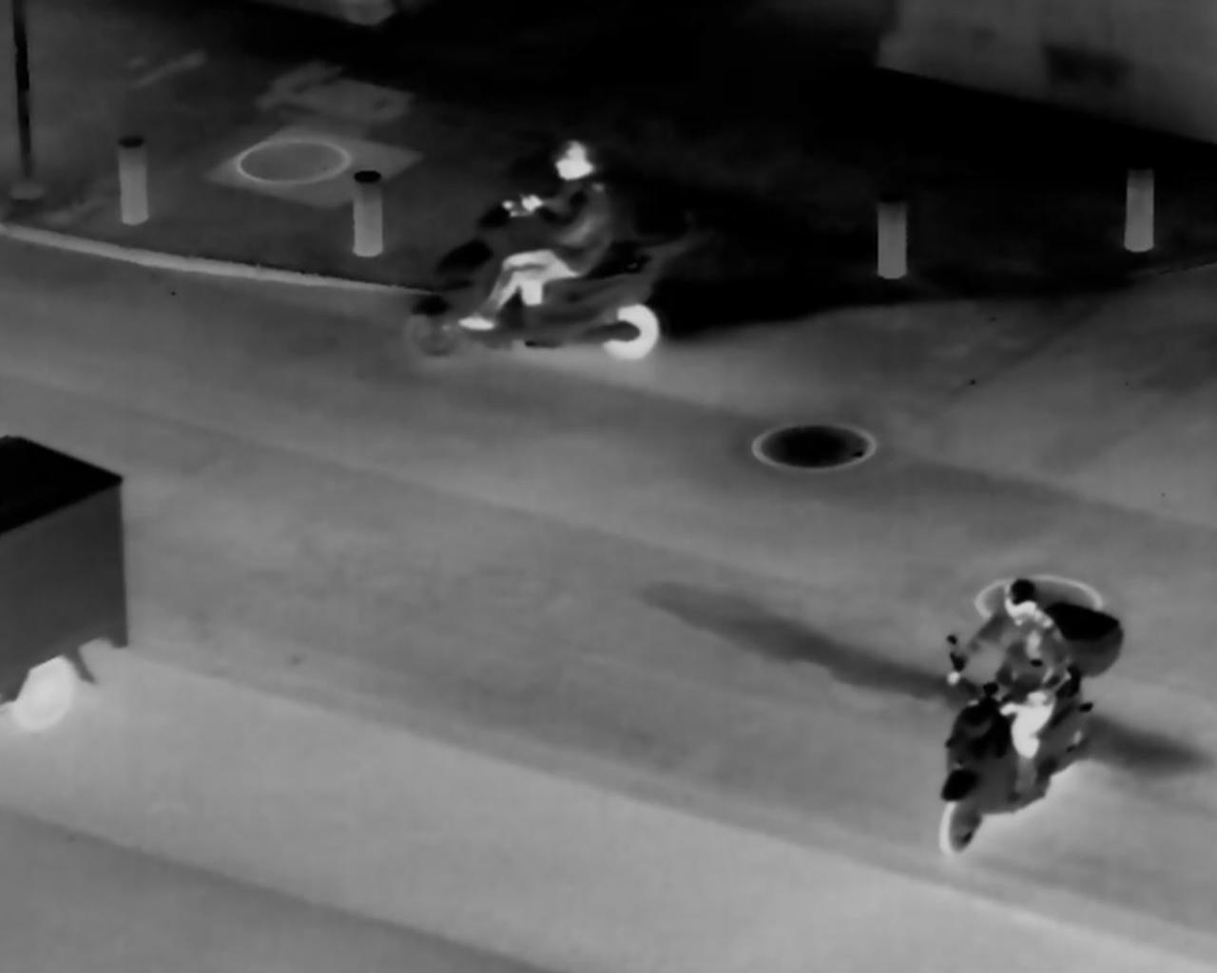person: (476, 133, 623, 341), (943, 572, 1074, 802)
